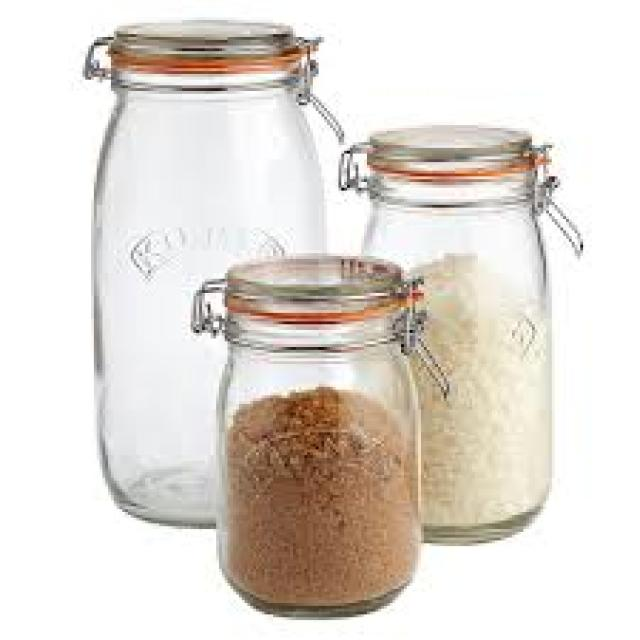Anorganik: (91, 20, 321, 523), (361, 122, 546, 538), (219, 253, 424, 614)
Organik: (228, 384, 412, 597), (410, 250, 538, 520)
